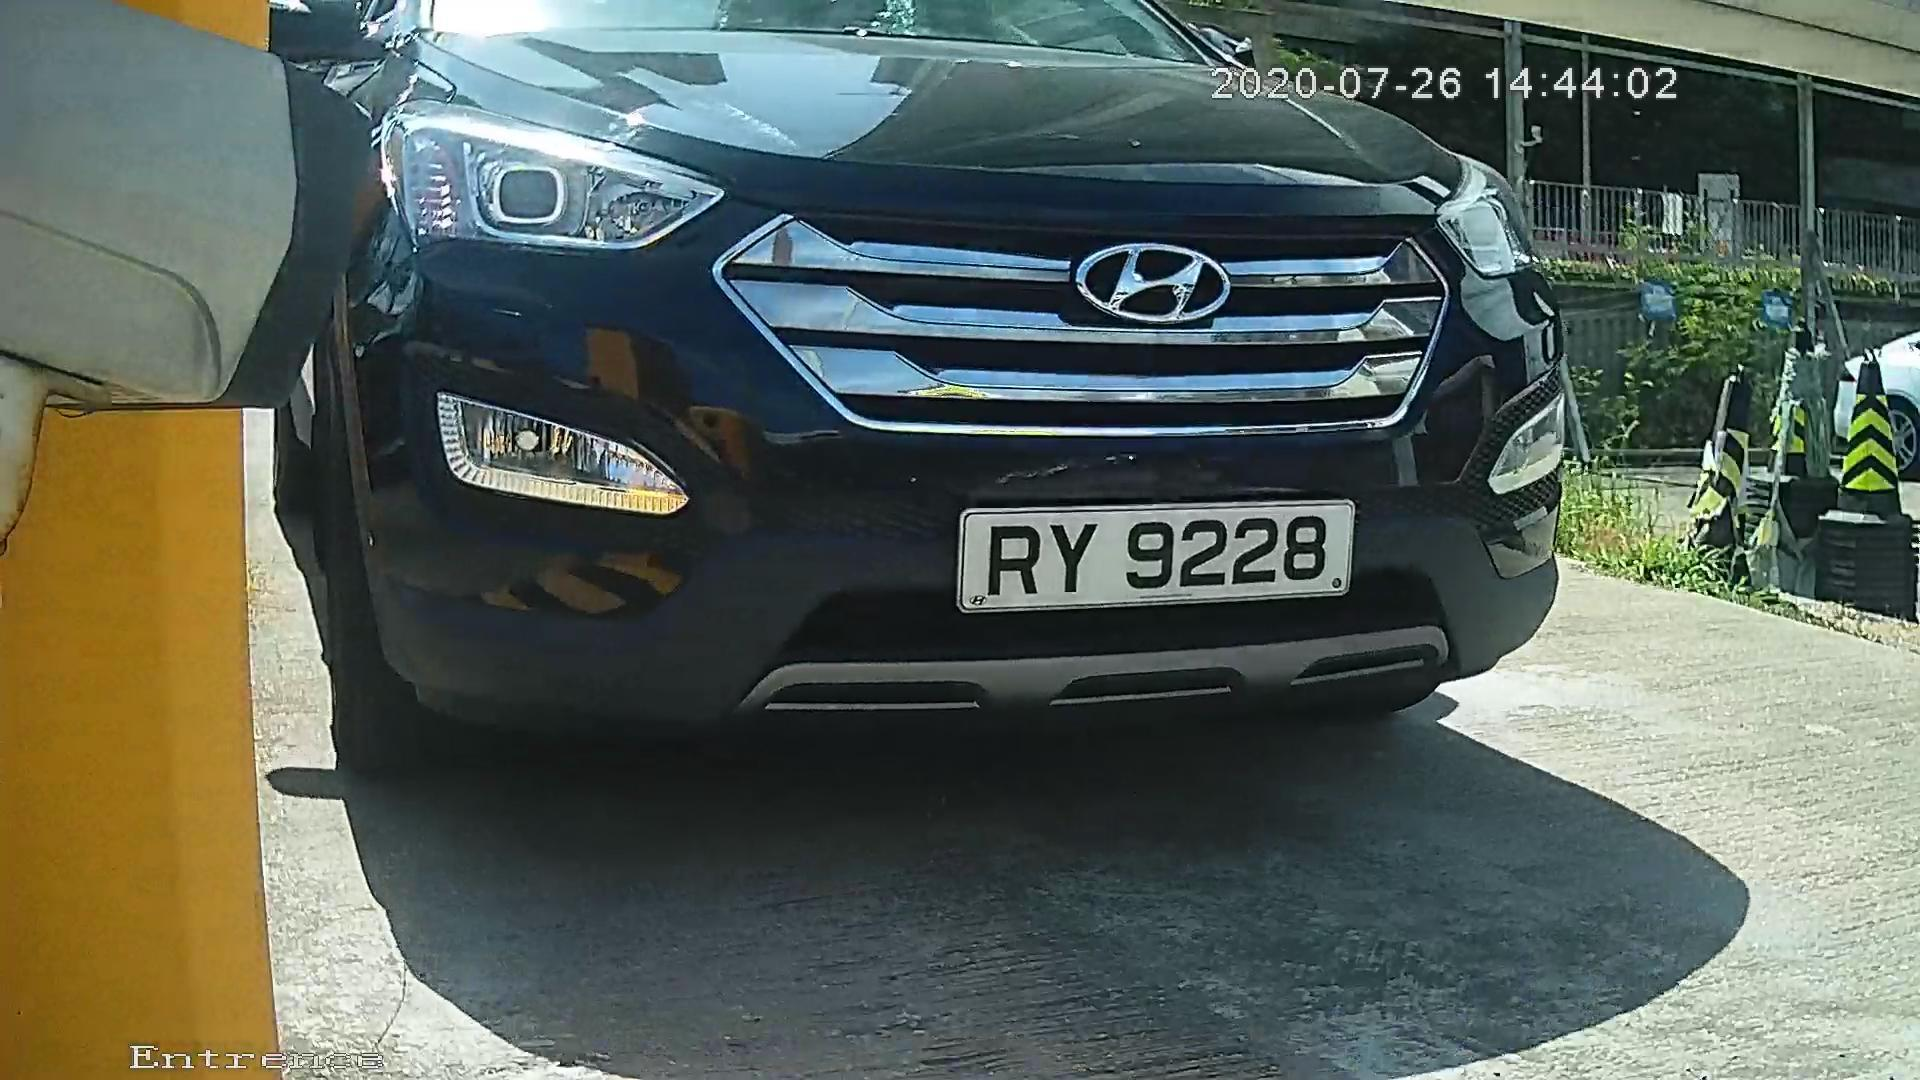privatecar: (241, 5, 1604, 825)
